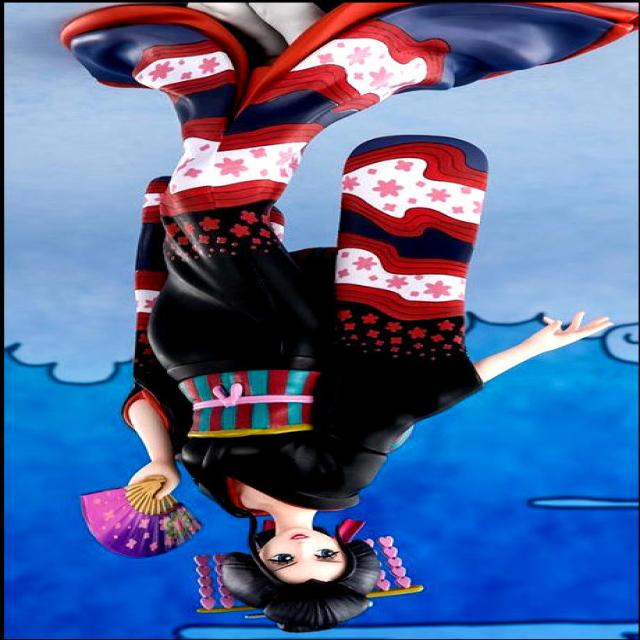Robin: (62, 0, 628, 637)
